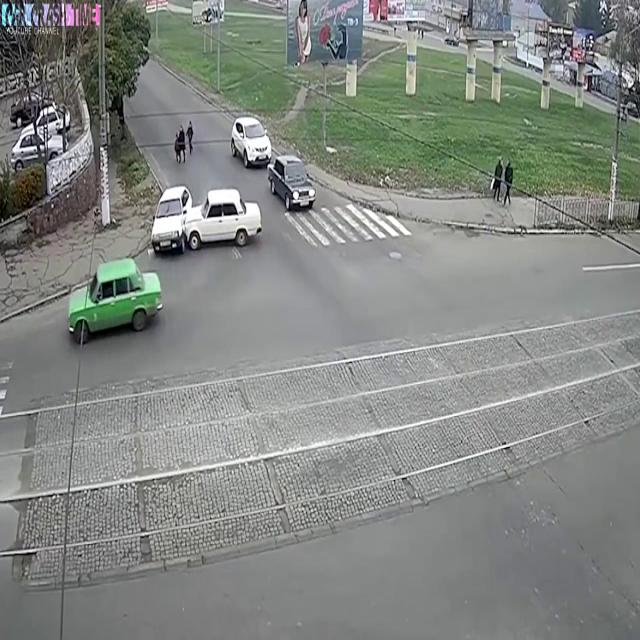accident: (147, 179, 266, 264)
non_accident: (226, 108, 320, 219)
